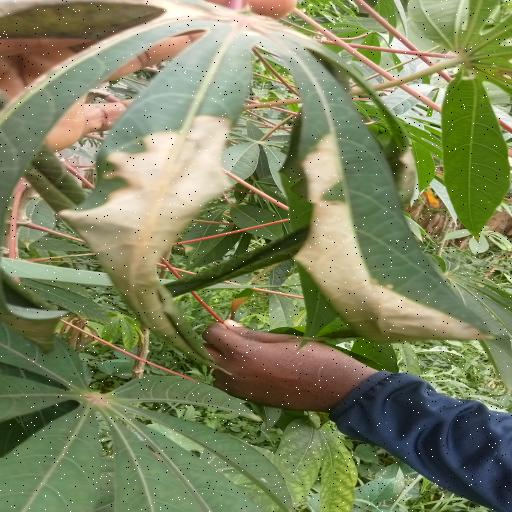Cassava_Root_Rot: (16, 0, 476, 348)
